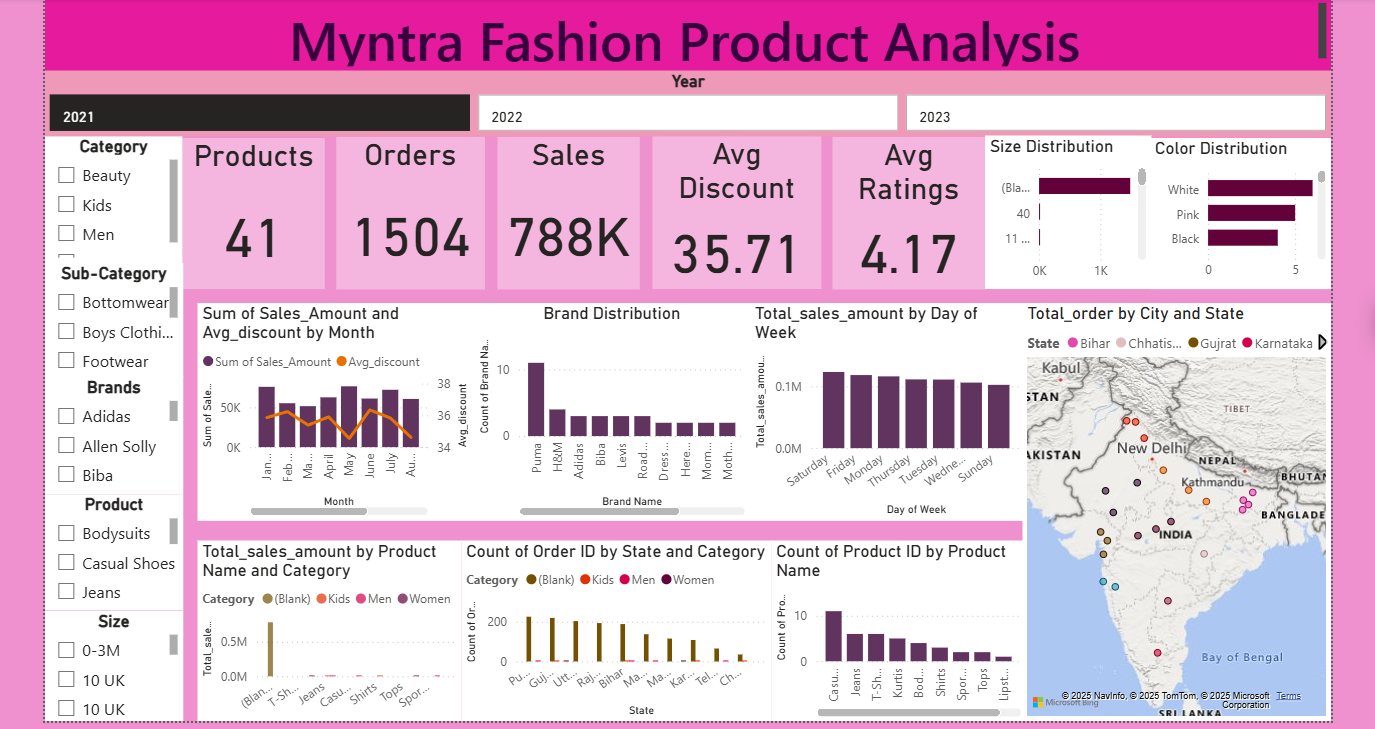

The dashboard page shown, as its layout file describes it:
{"tool":"powerbi","page":{"name":"Page 1","canvas":[1280,720],"ordinal":0},"visuals":[{"type":"textbox","box":[0,0,1280.3,72.7],"z":0},{"type":"card","title":"Products","fields":{"Values":["Count(dim_products.Product ID)"]},"box":[136.8,139.3,141.8,150.5],"z":1000},{"type":"card","title":"Orders","fields":{"Values":["fact_orders.Total_order"]},"box":[289.8,138.1,148,151.8],"z":2000},{"type":"card","title":"Sales","fields":{"Values":["fact_orders.Total_sales_amount"]},"box":[450.3,138.1,141.8,151.8],"z":3000},{"type":"card","title":"Avg Discount","fields":{"Values":["fact_orders.Avg_discount"]},"box":[604.6,136.8,167.9,153],"z":4000},{"type":"card","title":"Avg Ratings","fields":{"Values":["fact_orders.Avg_ratings"]},"box":[783.7,138.1,151.8,151.8],"z":5000},{"type":"slicer","title":"Category","fields":{"Values":["dim_products.Category"]},"box":[0,136.8,136.8,126.9],"z":6000},{"type":"slicer","title":"Sub-Category","fields":{"Values":["dim_products.Sub-category"]},"box":[0,263.5,137.2,113.9],"z":7000},{"type":"slicer","title":"Brands","fields":{"Values":["dim_products.Brand Name"]},"box":[0,377.4,137.2,116.6],"z":8000},{"type":"slicer","title":"Product","fields":{"Values":["dim_products.Product Name"]},"box":[0,494,137.2,115.3],"z":9000},{"type":"slicer","title":"Size","fields":{"Values":["dim_products.Size"]},"box":[0,609.3,137.2,111.1],"z":10000},{"type":"advancedSlicerVisual","fields":{"Values":["Date_table.Year"]},"box":[0,72.7,1280.3,65.9],"z":11000},{"type":"lineStackedColumnComboChart","fields":{"Category":["Date_table.Date.Variation.Date Hierarchy.Month"],"Y2":["fact_orders.Avg_discount"],"Y":["Sum(fact_orders.Sales_Amount)"]},"box":[151.8,303.5,274.9,216.4],"z":12000},{"type":"clusteredColumnChart","title":"Brand Distribution","fields":{"Category":["dim_products.Brand Name"],"Y":["CountNonNull(dim_products.Brand Name)"]},"box":[426.7,303.5,274.9,216.4],"z":13000},{"type":"clusteredColumnChart","fields":{"Category":["dim_customers.State"],"Y":["CountNonNull(fact_orders.Order ID)"],"Series":["dim_products.Category"]},"box":[414.2,539.9,308.5,180.4],"z":14000},{"type":"clusteredColumnChart","fields":{"Category":["Date_table.Day of Week"],"Y":["fact_orders.Total_sales_amount"]},"box":[701.6,303.5,274.9,216.4],"z":15000},{"type":"clusteredColumnChart","fields":{"Y":["fact_orders.Total_sales_amount"],"Series":["dim_products.Category"],"Category":["dim_products.Product Name"]},"box":[151.8,539.9,262.5,180.4],"z":16000},{"type":"clusteredColumnChart","fields":{"Category":["dim_products.Product Name"],"Y":["CountNonNull(dim_products.Product ID)"]},"box":[722.7,539.9,253.8,180.4],"z":17000},{"type":"map","fields":{"Category":["dim_customers.City"],"Series":["dim_customers.State"],"Y":["fact_orders.Total_order"]},"box":[972.8,303.5,307.3,416.7],"z":18000},{"type":"barChart","title":"Size Distribution","fields":{"Category":["dim_products.Size"],"Y":["fact_orders.Total_order"]},"box":[935.5,136.8,165.4,153],"z":19000},{"type":"barChart","title":"Color Distribution","fields":{"Category":["dim_products.Color"],"Y":["CountNonNull(dim_products.Size)"]},"box":[1100,139,180,150],"z":20000}]}

Visuals, with their boxes in screenshot pixels (x1, y1, x2, y2):
textbox: Rect(43, 0, 1324, 69)
"Products" card: Rect(180, 136, 322, 286)
"Orders" card: Rect(333, 135, 481, 286)
"Sales" card: Rect(493, 135, 635, 286)
"Avg Discount" card: Rect(648, 133, 816, 286)
"Avg Ratings" card: Rect(827, 135, 979, 286)
"Category" slicer: Rect(43, 133, 180, 260)
"Sub-Category" slicer: Rect(43, 260, 180, 374)
"Brands" slicer: Rect(43, 374, 180, 491)
"Product" slicer: Rect(43, 491, 180, 606)
"Size" slicer: Rect(43, 606, 180, 717)
advancedSlicerVisual - Date_table.Year: Rect(43, 69, 1324, 135)
lineStackedColumnComboChart - Date_table.Date.Variation.Date Hierarchy.Month x fact_orders.Avg_discount: Rect(195, 300, 470, 517)
"Brand Distribution" clusteredColumnChart: Rect(470, 300, 745, 517)
clusteredColumnChart - dim_customers.State x CountNonNull(fact_orders.Order ID): Rect(457, 537, 766, 717)
clusteredColumnChart - Date_table.Day of Week x fact_orders.Total_sales_amount: Rect(745, 300, 1020, 517)
clusteredColumnChart - fact_orders.Total_sales_amount x dim_products.Category: Rect(195, 537, 457, 717)
clusteredColumnChart - dim_products.Product Name x CountNonNull(dim_products.Product ID): Rect(766, 537, 1020, 717)
map - dim_customers.City x dim_customers.State: Rect(1016, 300, 1324, 717)
"Size Distribution" barChart: Rect(979, 133, 1144, 286)
"Color Distribution" barChart: Rect(1144, 135, 1324, 286)
